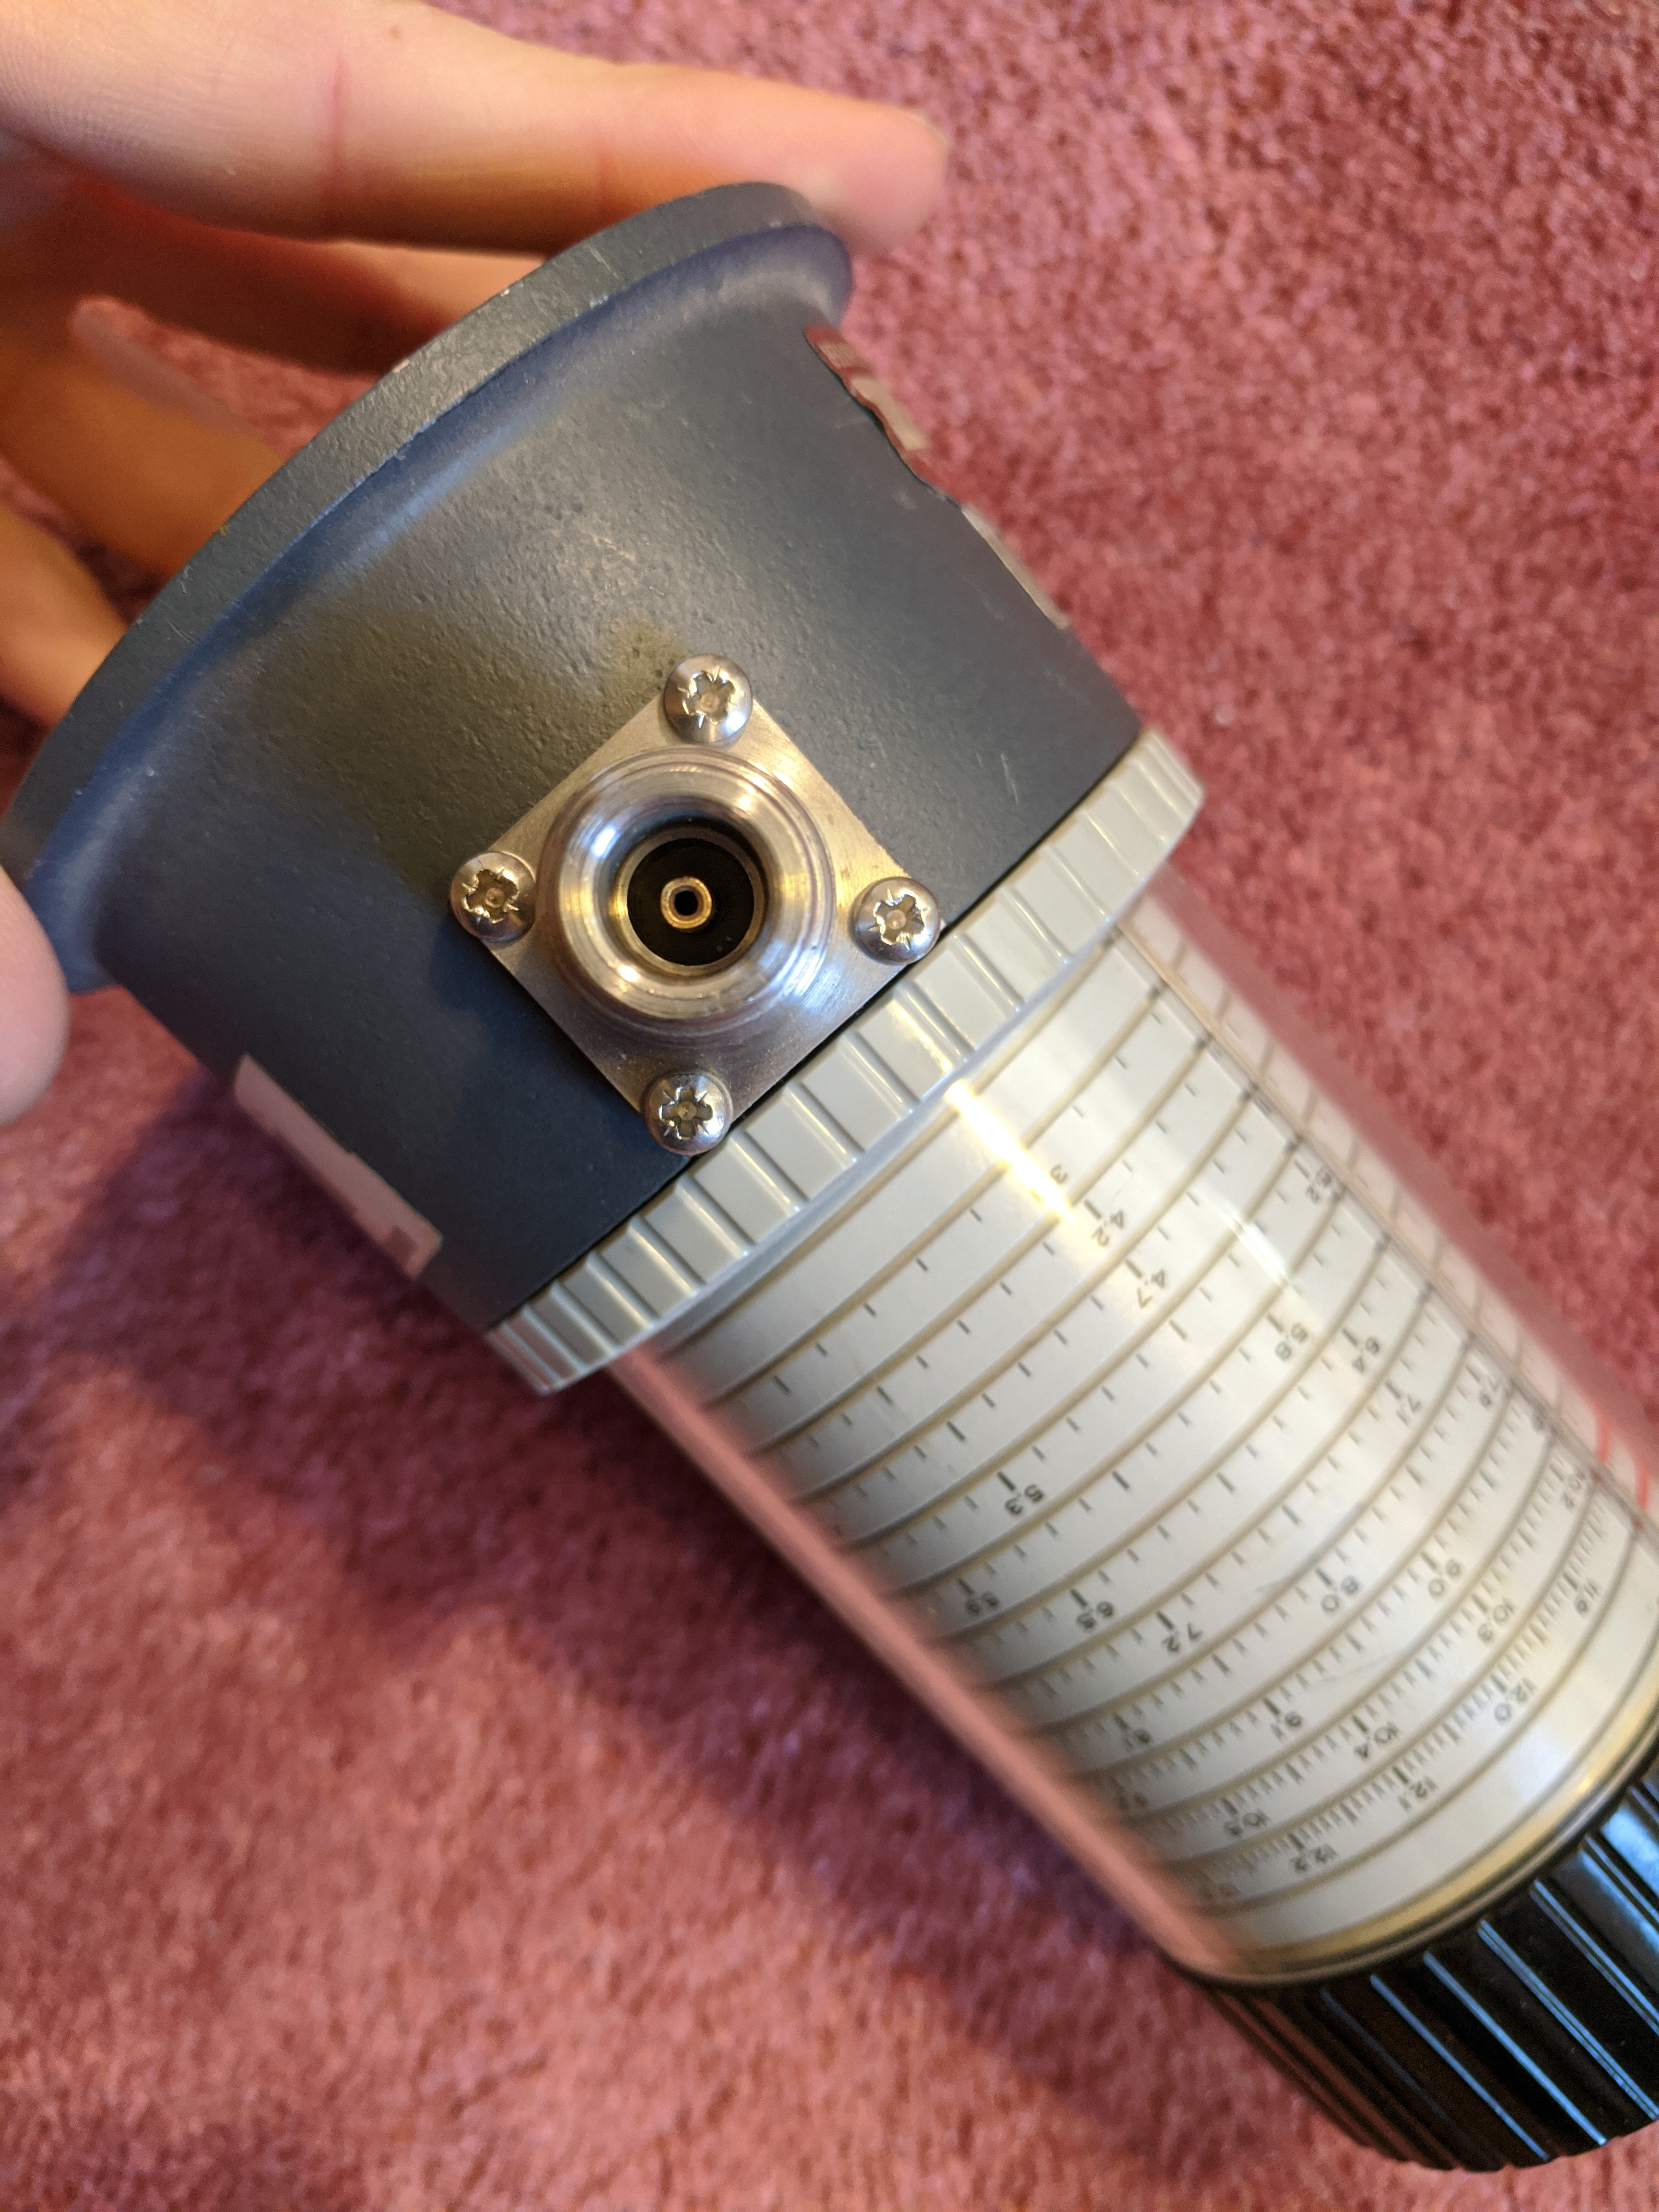cross_recessed_screw: (842, 853, 938, 956), (629, 1054, 730, 1150), (434, 840, 533, 935), (657, 643, 748, 738)
